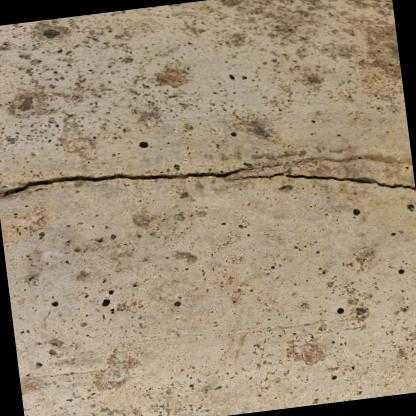crack: (0, 166, 241, 199), (228, 171, 415, 189)
